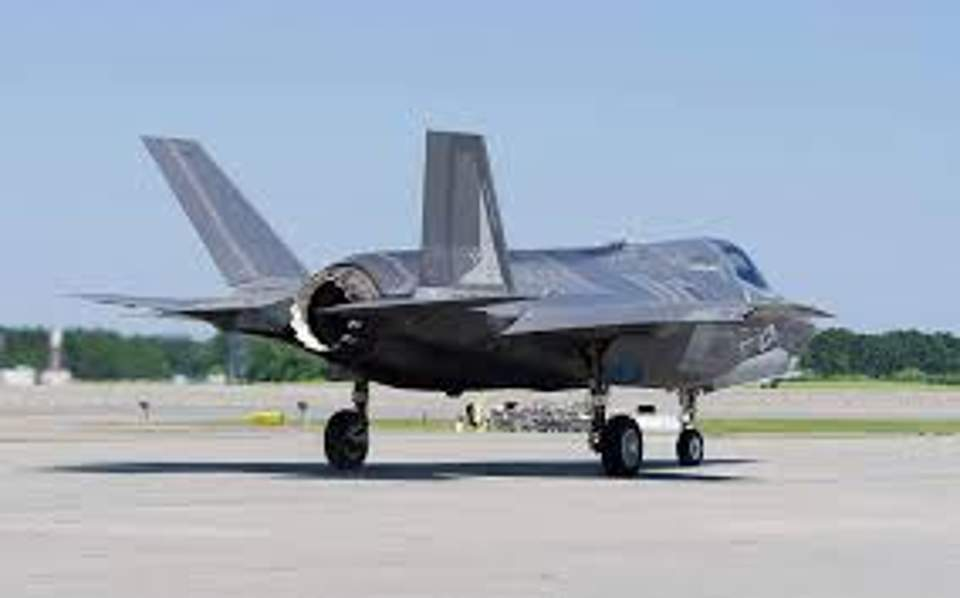F-35 Lightning: (67, 104, 862, 514)
